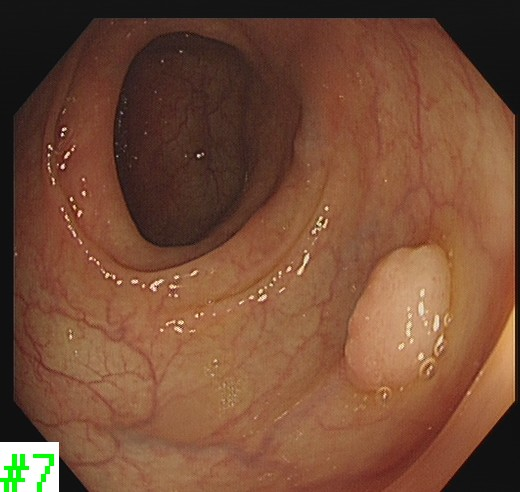adenoma: (340, 241, 455, 390)
